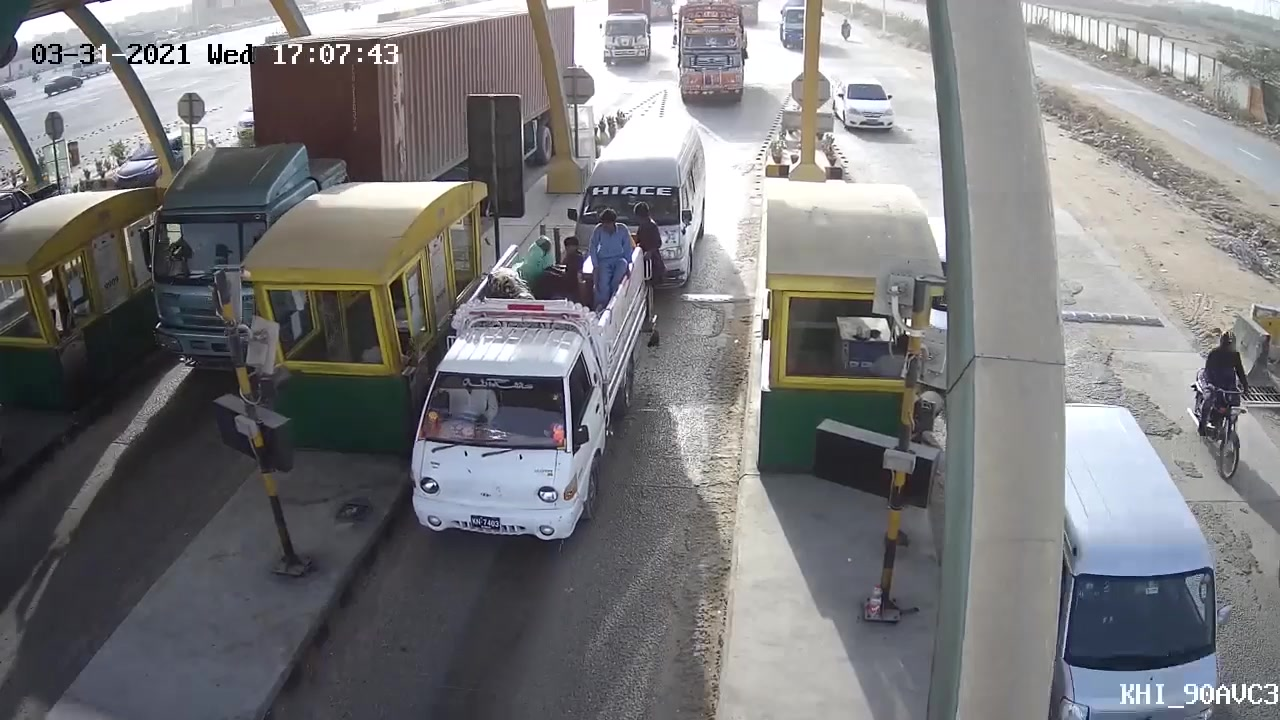F2: (405, 226, 645, 559)
